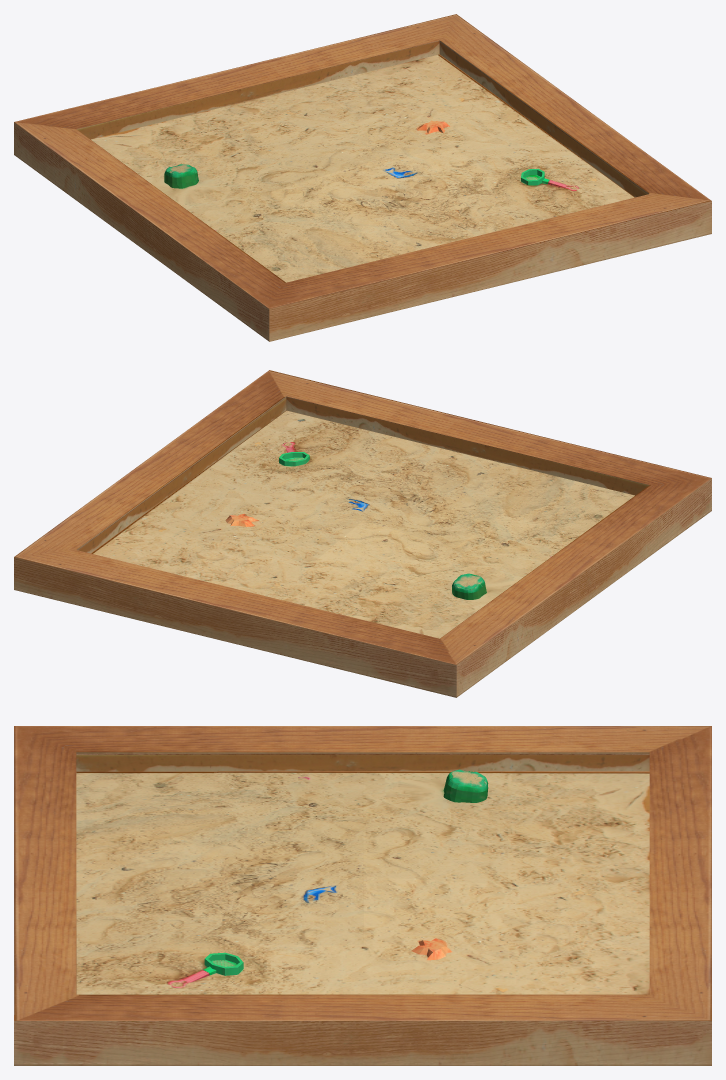
The model's file is sandbox.FBX.
3 renders of one model, top to bottom at view 1: azimuth 30°, elevation 25°; view 2: azimuth 150°, elevation 25°; view 3: azimuth 270°, elevation 25°, orthographic. The views are drawn at different scales.
Visible parts, largest first — view 1: Plane001; view 2: Plane001; view 3: Plane001.
Part boxes in pixels (x1=…): Plane001: x1=14, y1=14, x2=711, y2=341; Plane001: x1=14, y1=370, x2=711, y2=697; Plane001: x1=14, y1=726, x2=711, y2=1065.
Bounding box in the file's own units: 45.23 × 3.36 × 45.23.
